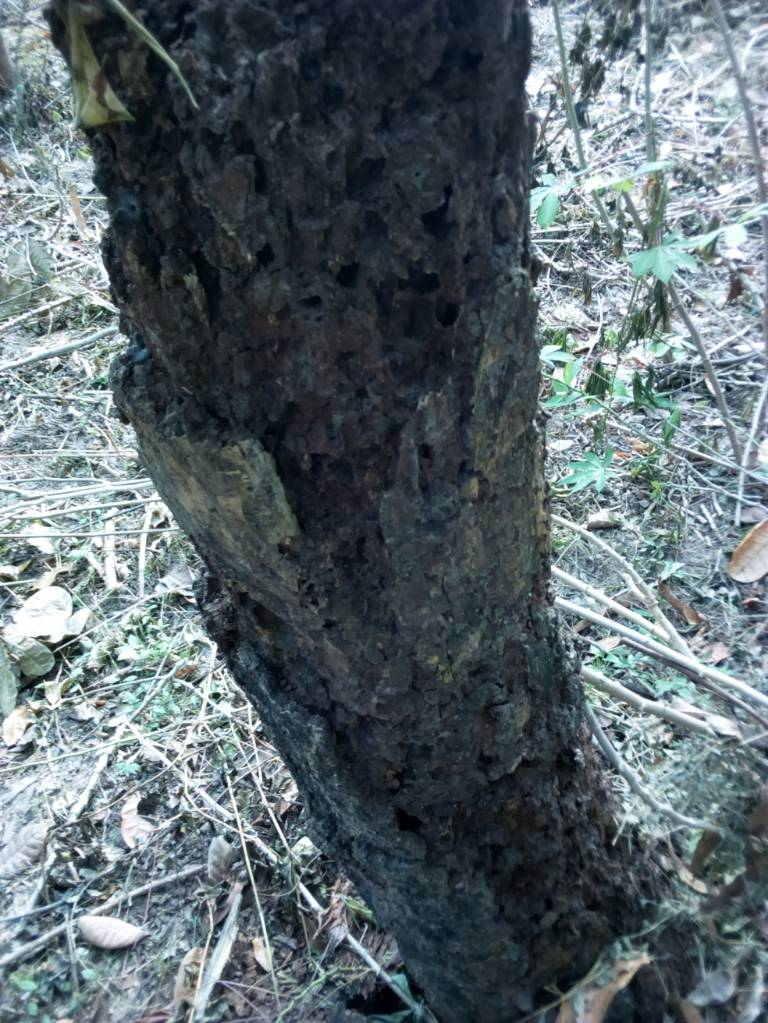Termites: (166, 5, 546, 561), (404, 636, 652, 1019)
